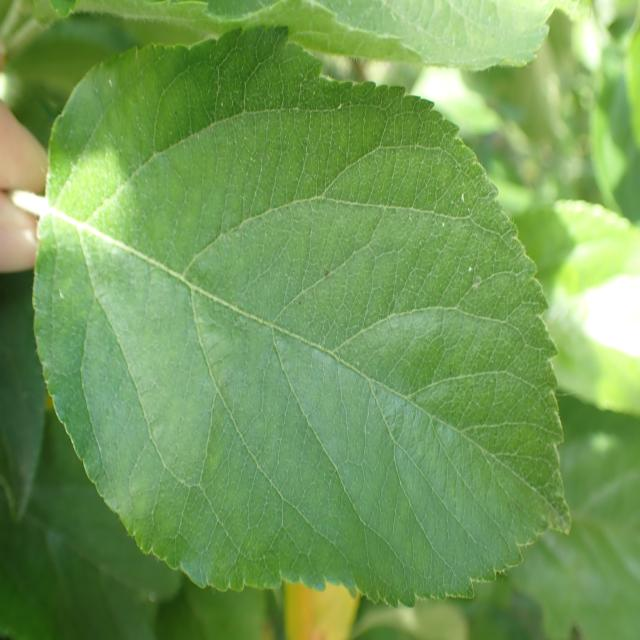healthy: (32, 23, 571, 610), (32, 0, 575, 71)
